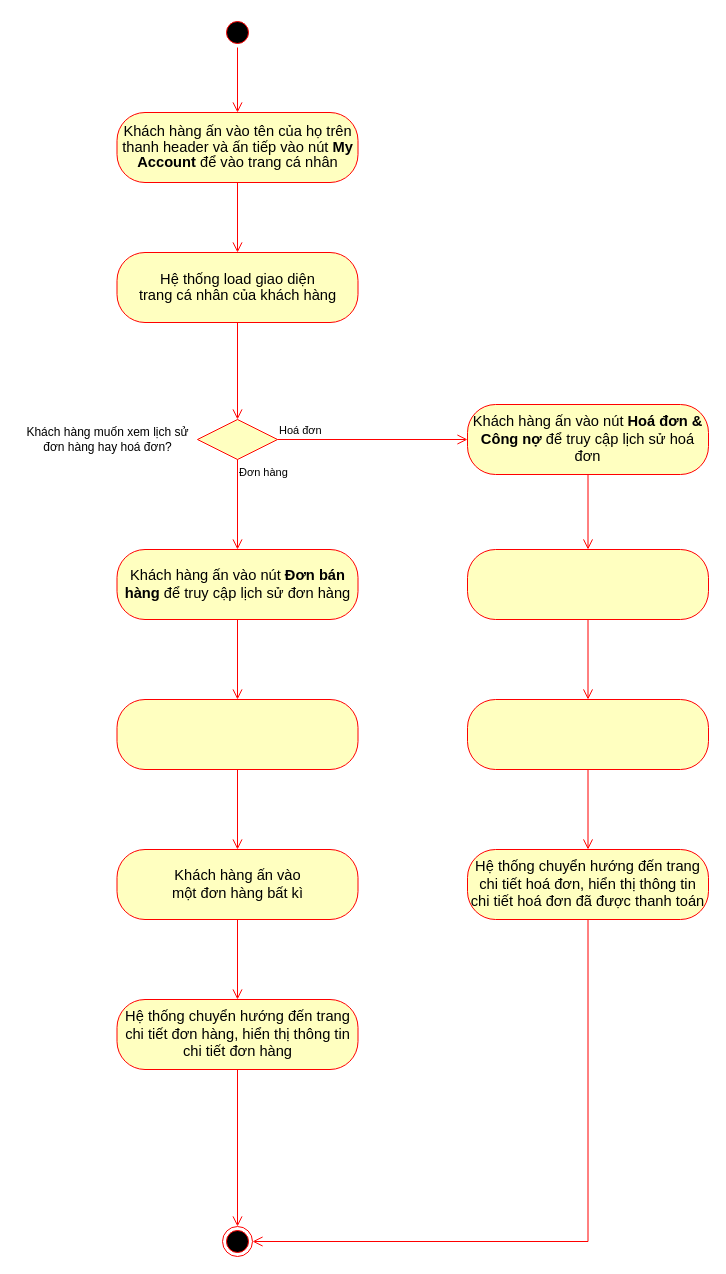
The diagram is 726 pixels wide and 1274 high, and some of its shapes have lost their labels. Each missing label, with the centre of its shape:
Hệ thống load danh sách hoá đơn của khách hàng từ CSDL lên màn hình: (587,584)
Hệ thống load danh sách đơn hàng của khách hàng từ CSDL lên màn hình: (237,734)
Khách hàng ấn vào một hoá đơn bất kì: (587,734)
